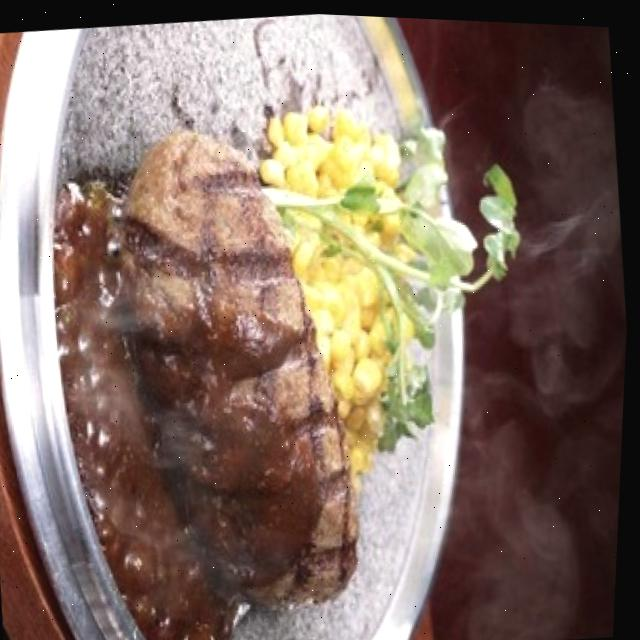牛肉菜式: (58, 96, 409, 635)
